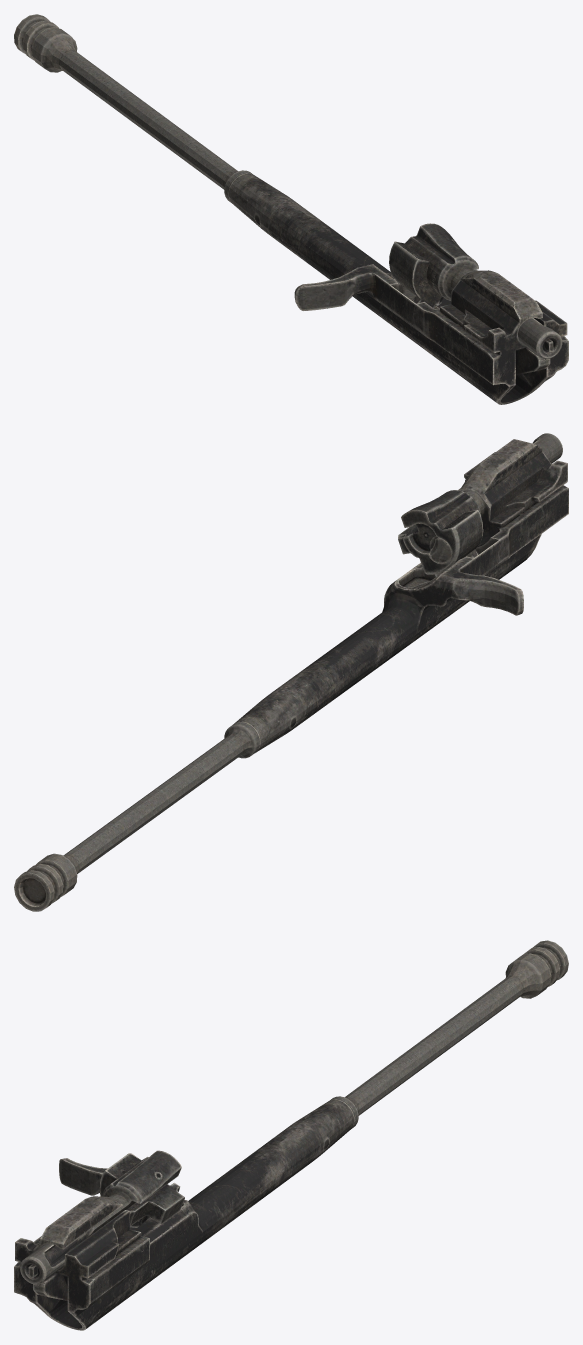
3 renders of one model, top to bottom at view 1: azimuth 30°, elevation 25°; view 2: azimuth 150°, elevation 25°; view 3: azimuth 330°, elevation 25°, orthographic.
Parts seen in each view (by area): view 1: TW_59ff346386f77477562ff5e2_PZ_Import; view 2: TW_59ff346386f77477562ff5e2_PZ_Import; view 3: TW_59ff346386f77477562ff5e2_PZ_Import.
Part boxes in pixels (<box>): TW_59ff346386f77477562ff5e2_PZ_Import: <box>14,14,568,404</box>; TW_59ff346386f77477562ff5e2_PZ_Import: <box>14,433,568,911</box>; TW_59ff346386f77477562ff5e2_PZ_Import: <box>14,940,568,1330</box>.
Bounding box in the file's own units: 0.0344 × 0.2034 × 0.0254.
Materials: 1 (1 with a texture image).
